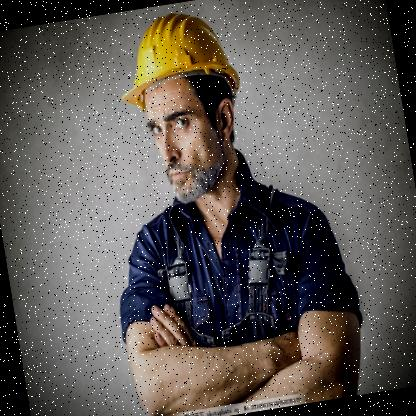capacete: (108, 0, 258, 216)
sem_colete_refletivo: (99, 168, 379, 415)
